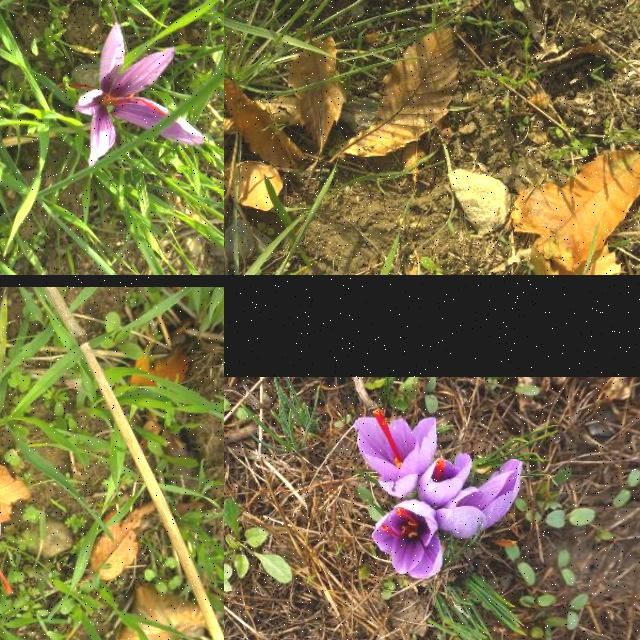flower: (59, 24, 209, 168), (354, 409, 438, 498), (434, 460, 524, 538), (372, 500, 444, 580), (416, 452, 474, 508)
